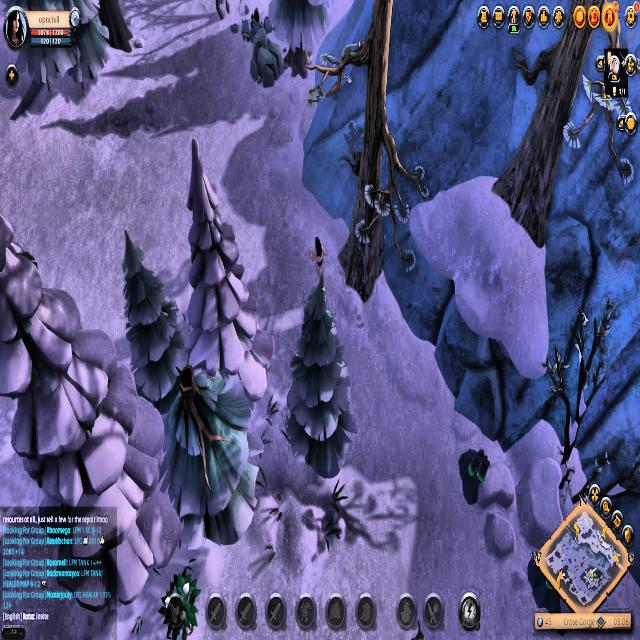flax: (161, 560, 198, 638)
sandstone: (248, 27, 284, 92)
tin_ore: (457, 441, 492, 505)
